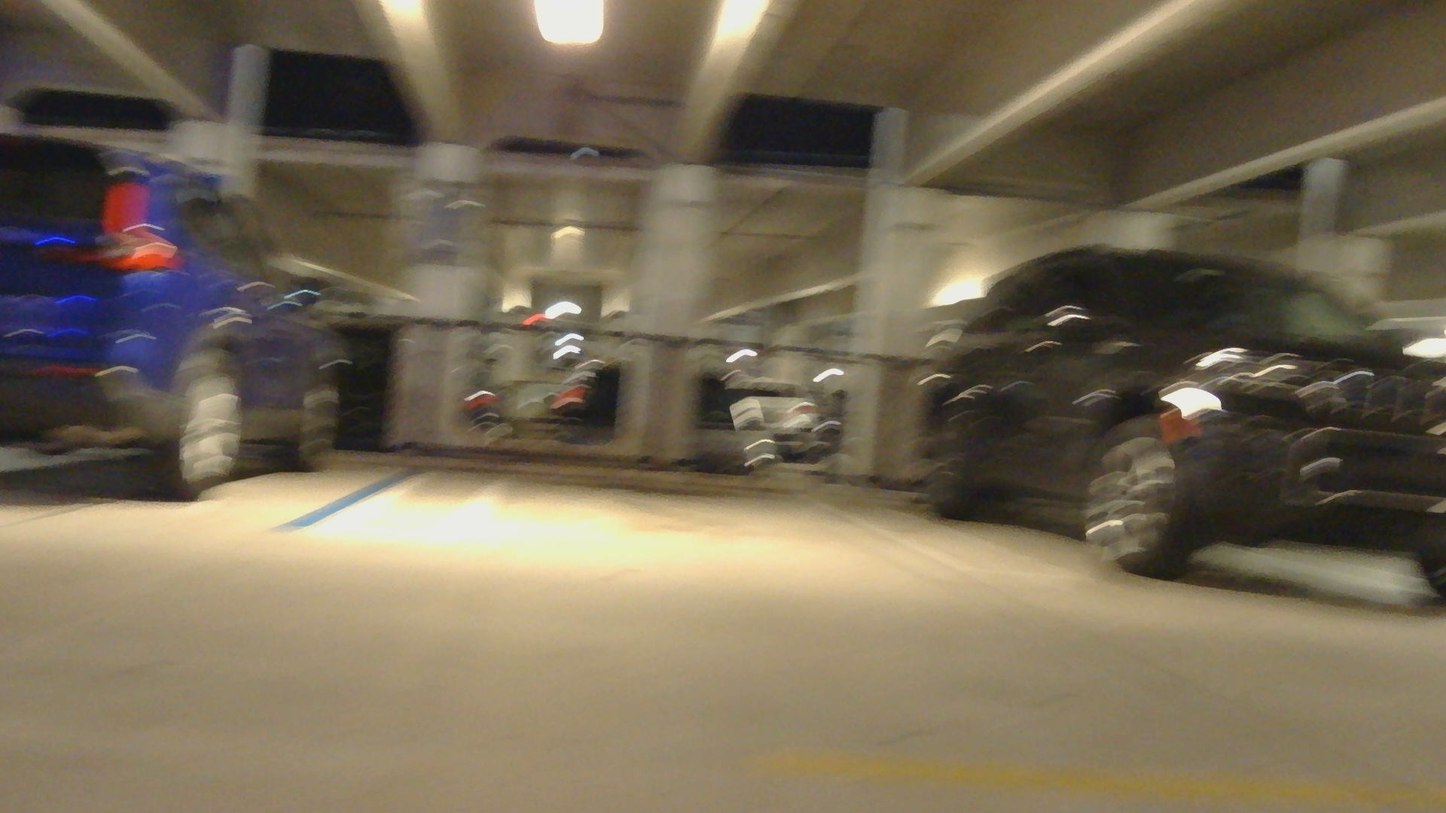occupied_spot: (891, 206, 1446, 642), (0, 127, 348, 515)
